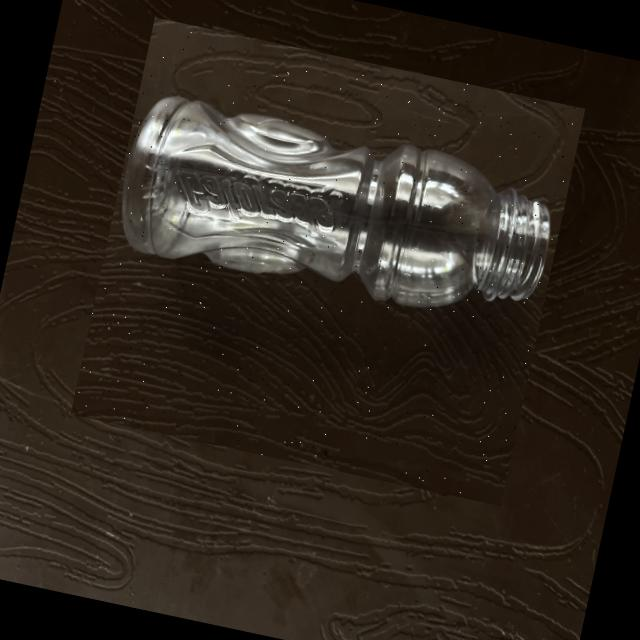PET_ClearBottle: (69, 17, 584, 506)
